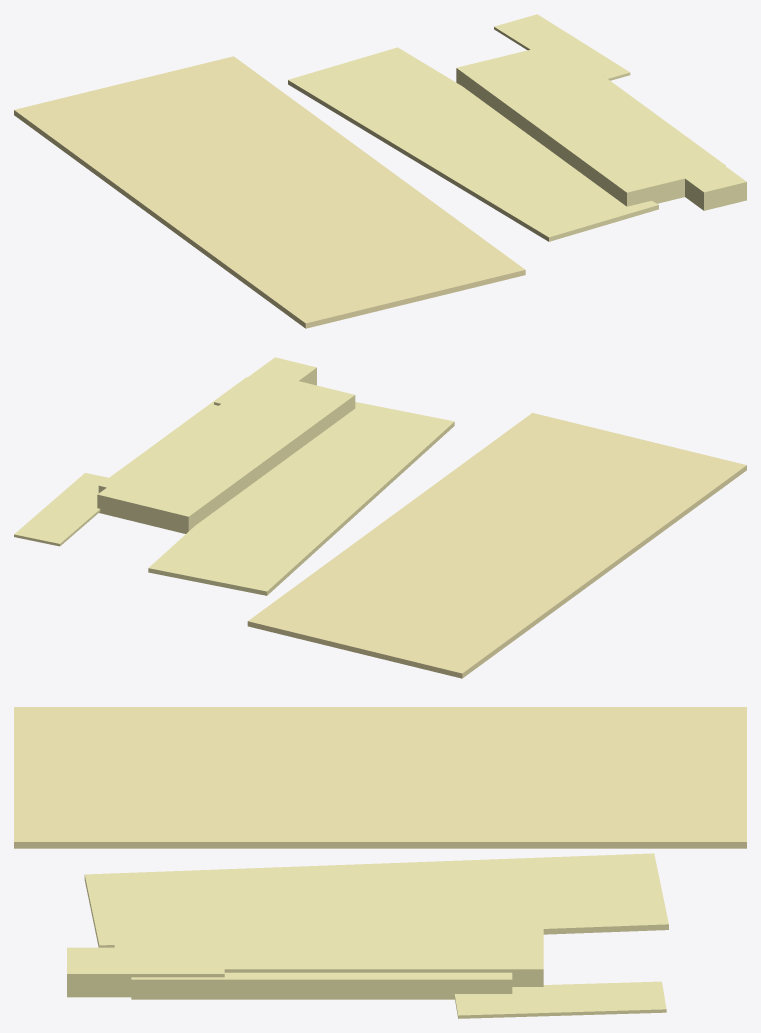
Rendered from road_transit_platform_bulbout.glb.
The picture shows the model from 3 angles, top to bottom: view 1: azimuth 30°, elevation 25°; view 2: azimuth 150°, elevation 25°; view 3: azimuth 270°, elevation 25°; orthographic projection. The views are drawn at different scales.
Parts seen in each view (by area): view 1: travel_lane, bulbout_apron, platform_slab, platform_nose, shelter_pad, rear_curb; view 2: travel_lane, bulbout_apron, platform_slab, shelter_pad, platform_nose, rear_curb; view 3: travel_lane, bulbout_apron, platform_slab, rear_curb, shelter_pad, platform_nose.
Part boxes in pixels (left/top/right/bottom): travel_lane: left=14, top=56, right=525, bottom=328; bulbout_apron: left=288, top=47, right=658, bottom=241; platform_slab: left=456, top=45, right=694, bottom=206; platform_nose: left=641, top=136, right=746, bottom=210; shelter_pad: left=494, top=14, right=630, bottom=80; rear_curb: left=565, top=54, right=725, bottom=165; travel_lane: left=247, top=413, right=746, bottom=678; bulbout_apron: left=148, top=402, right=454, bottom=595; platform_slab: left=97, top=372, right=355, bottom=533; shelter_pad: left=14, top=473, right=108, bottom=546; platform_nose: left=214, top=357, right=316, bottom=411; rear_curb: left=98, top=377, right=247, bottom=493; travel_lane: left=14, top=707, right=746, bottom=848; bulbout_apron: left=84, top=853, right=668, bottom=947; platform_slab: left=114, top=912, right=543, bottom=986; rear_curb: left=131, top=972, right=512, bottom=999; shelter_pad: left=454, top=981, right=666, bottom=1018; platform_nose: left=67, top=947, right=224, bottom=997.
Bounding box in the file's own units: 3.97 × 0.14 × 4.
